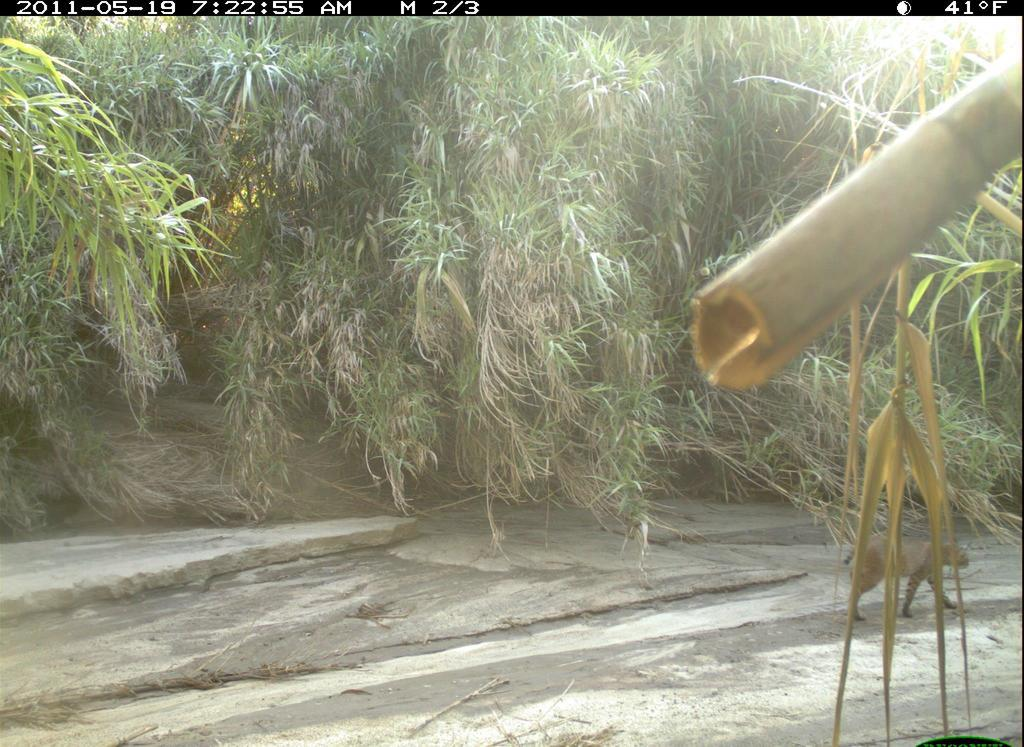bobcat: (835, 525, 978, 626)
